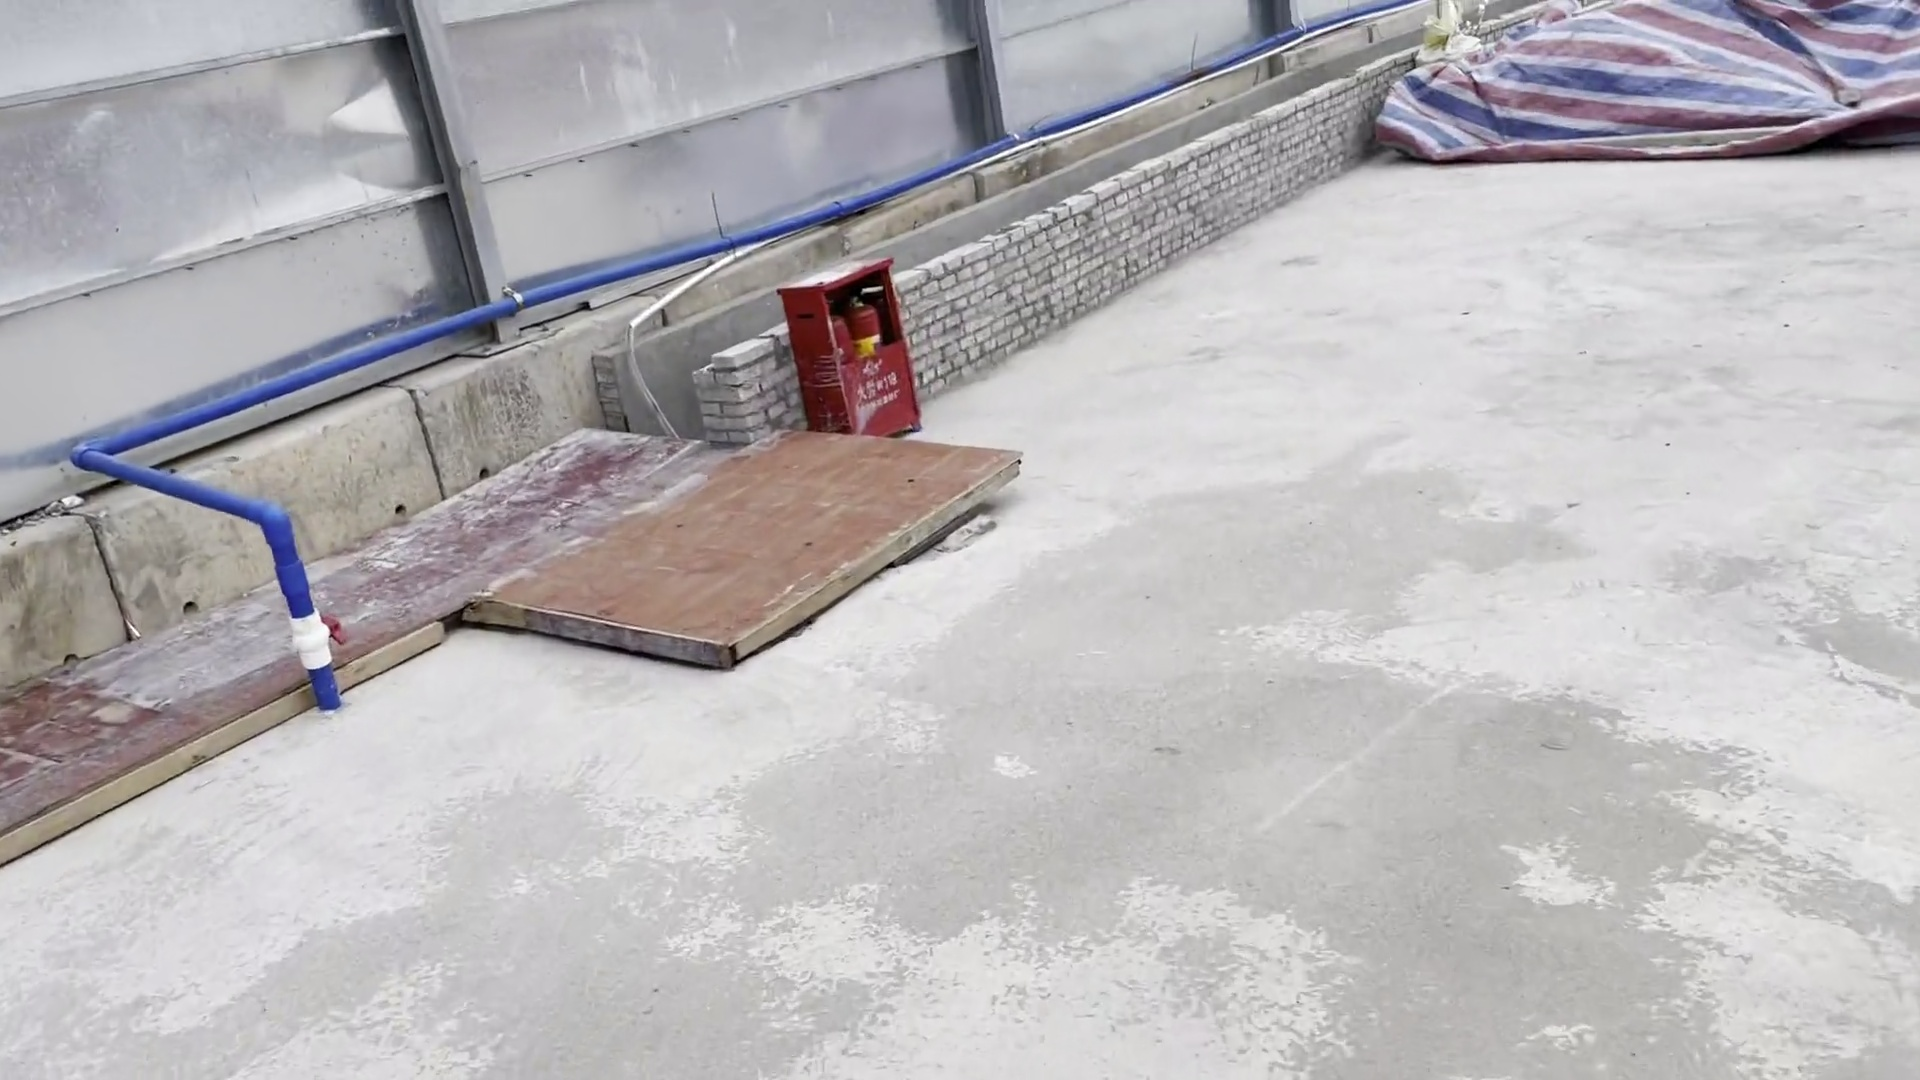board: (3, 401, 1030, 869)
brick: (898, 54, 1429, 450), (587, 323, 810, 472)
